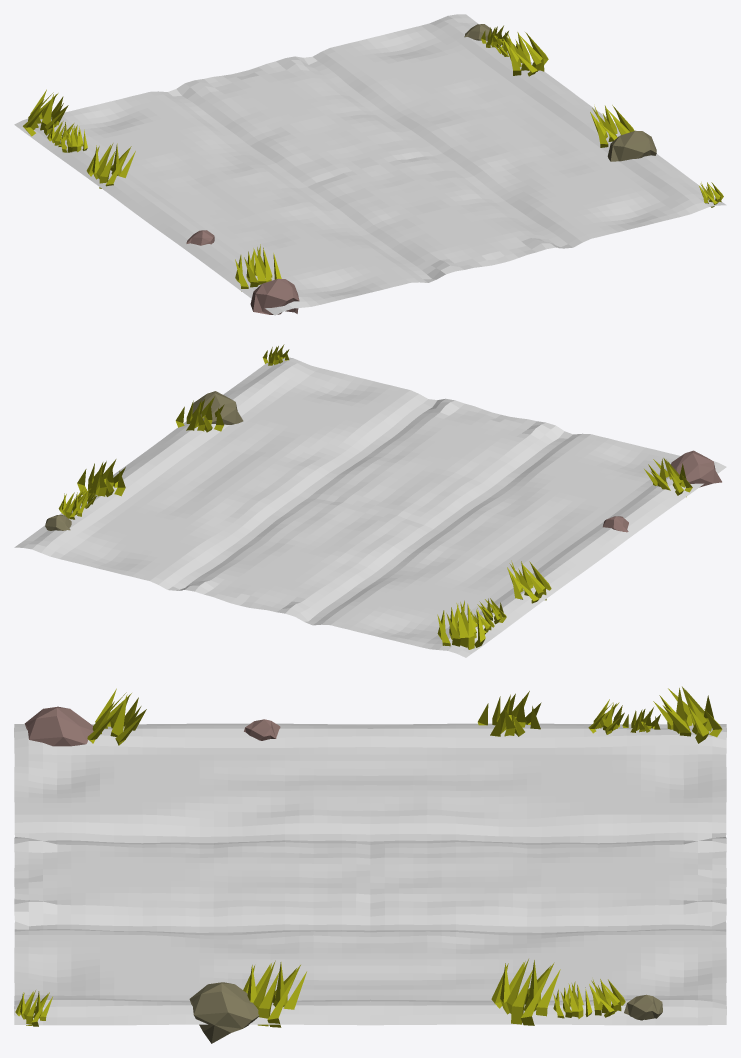
The model's file is way2.fbx.
3 views of the same model, one above another, from view 1: azimuth 30°, elevation 25°; view 2: azimuth 150°, elevation 25°; view 3: azimuth 270°, elevation 25° (orthographic). The views are drawn at different scales.
Parts seen in each view (by area): view 1: Plane1, Cone, Icosphere.001, Icosphere; view 2: Plane1, Cone, Icosphere.001, Icosphere; view 3: Plane1, Cone, Icosphere, Icosphere.001.
Boxes of the visible parts, x1,y1,x2,y2 form: Plane1: [14, 14, 726, 315]; Cone: [23, 25, 723, 291]; Icosphere.001: [186, 230, 299, 314]; Icosphere: [464, 24, 656, 161]; Plane1: [14, 357, 726, 657]; Cone: [58, 344, 692, 649]; Icosphere.001: [603, 450, 721, 532]; Icosphere: [45, 391, 243, 530]; Plane1: [14, 723, 726, 1025]; Cone: [15, 686, 722, 1027]; Icosphere: [189, 982, 662, 1043]; Icosphere.001: [24, 706, 280, 746].
Size of the model in its own units: 1038 by 116 by 1001.
